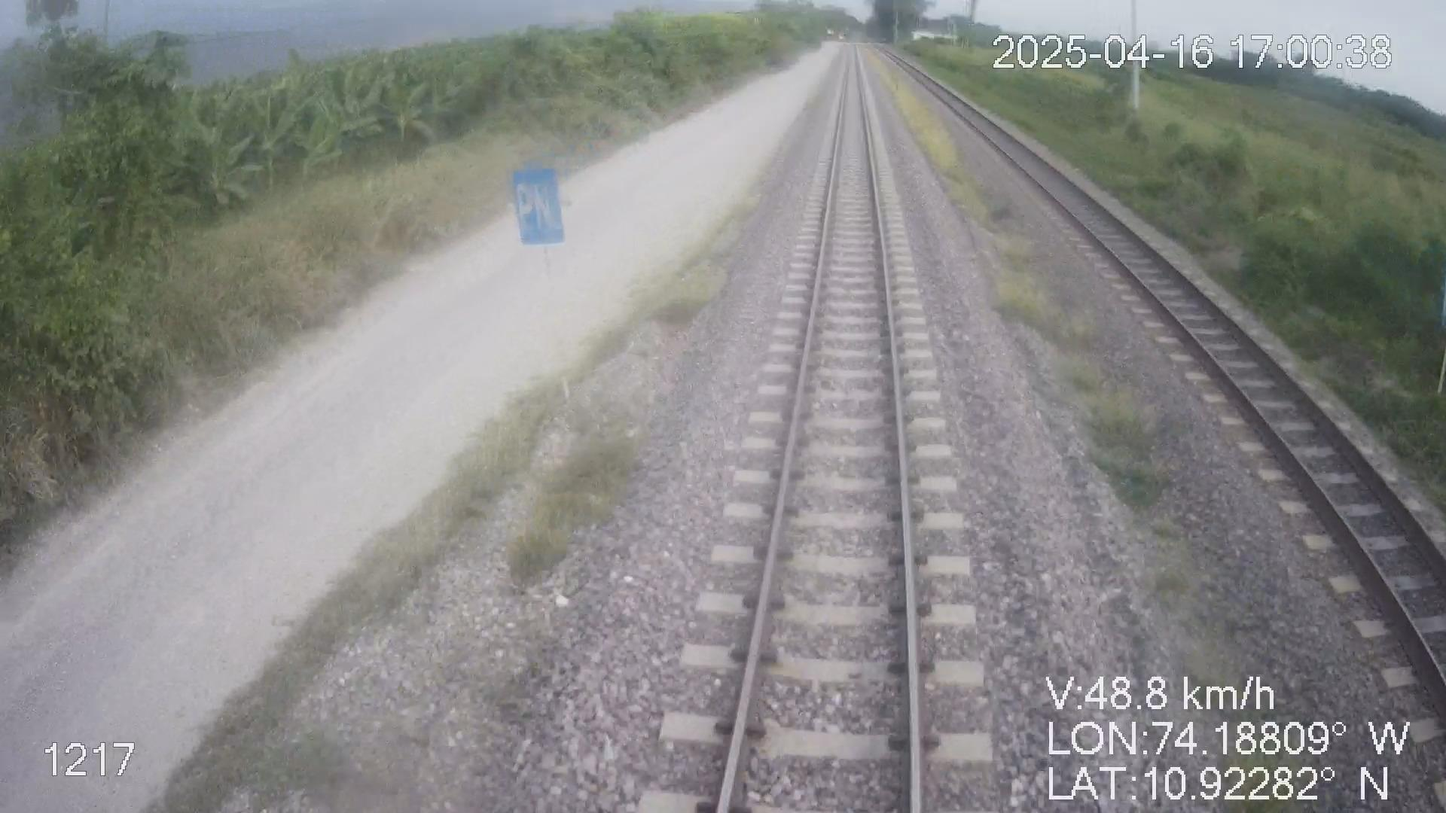Pasto: (0, 11, 848, 541), (899, 20, 1445, 557)
Senal: (514, 169, 570, 249)
